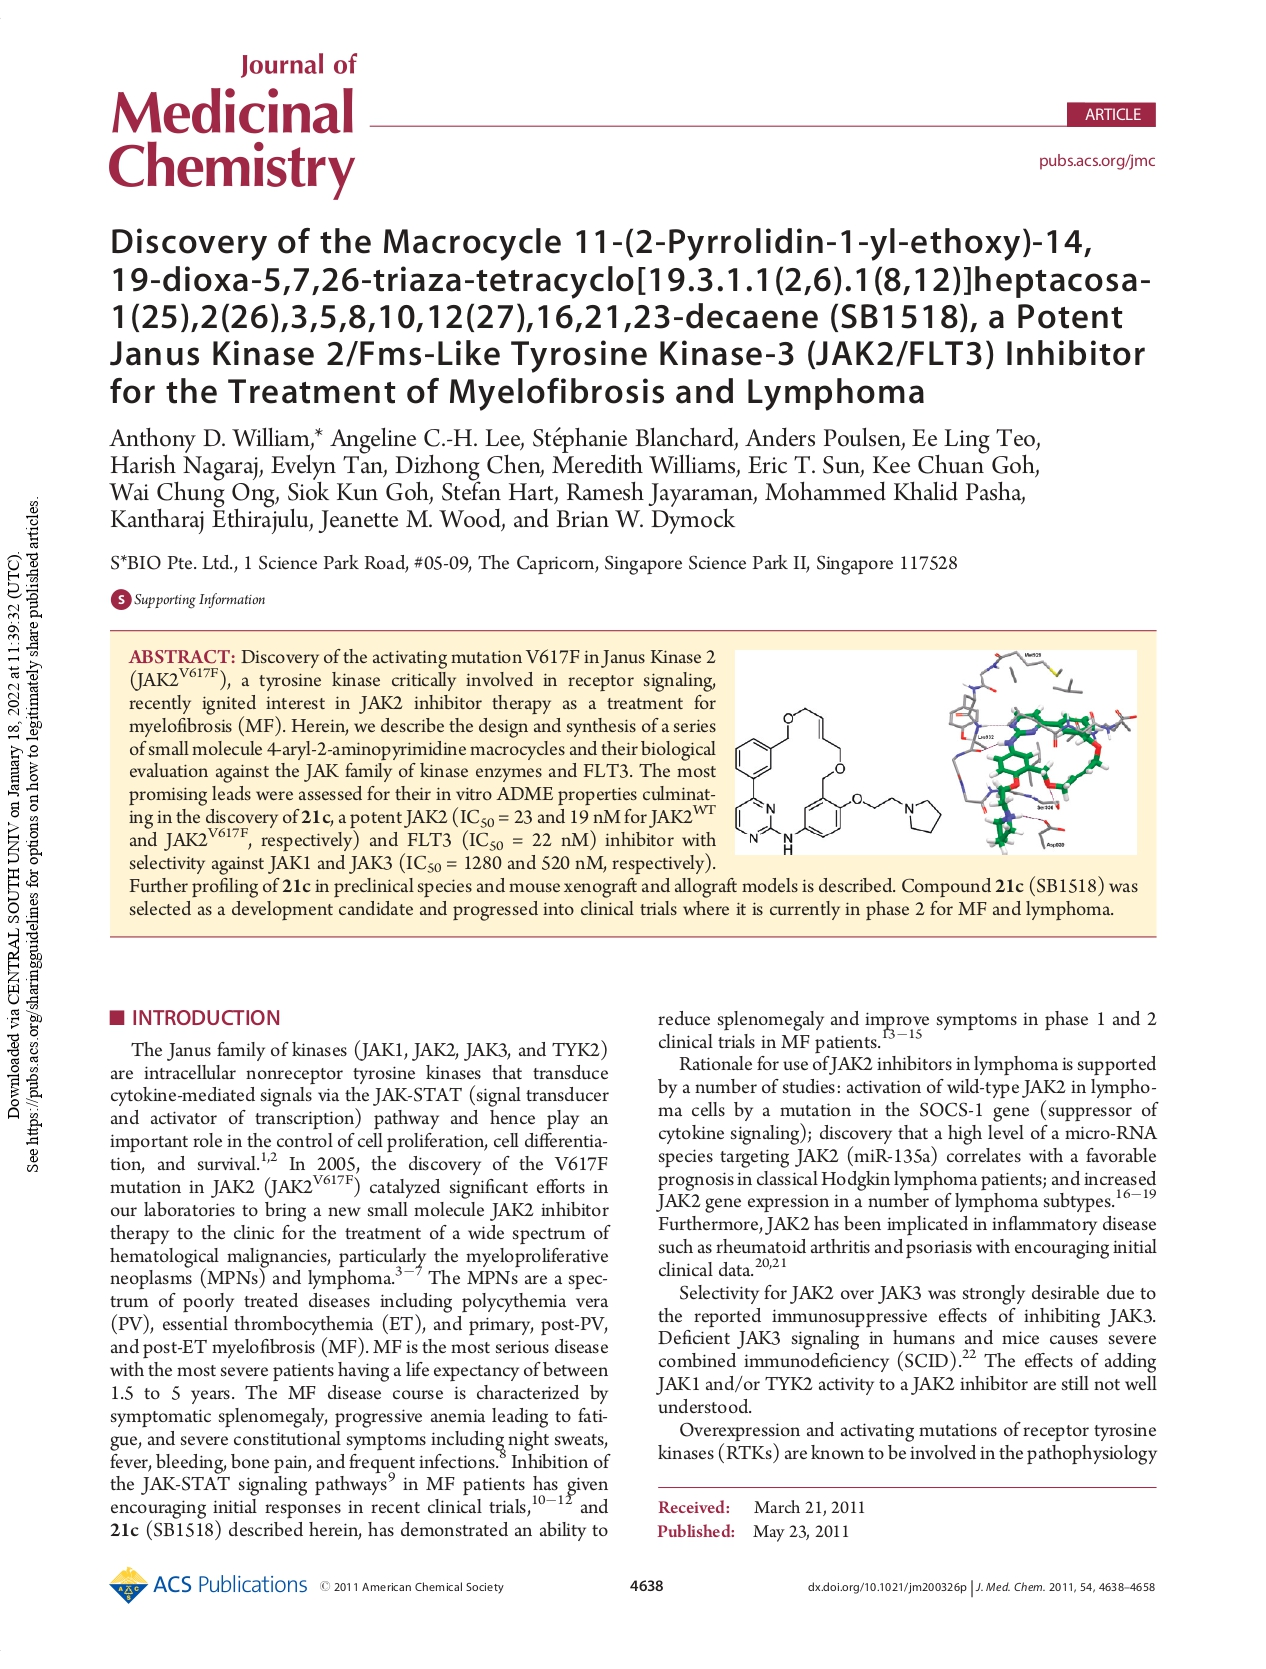exist_molecular: (731, 705, 946, 856)
